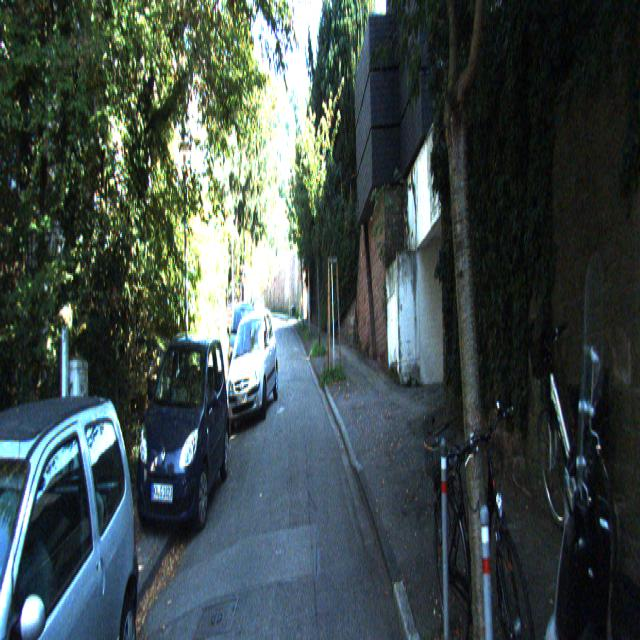Car: (0, 361, 149, 639), (538, 338, 640, 638), (134, 328, 232, 544), (224, 303, 278, 426)
